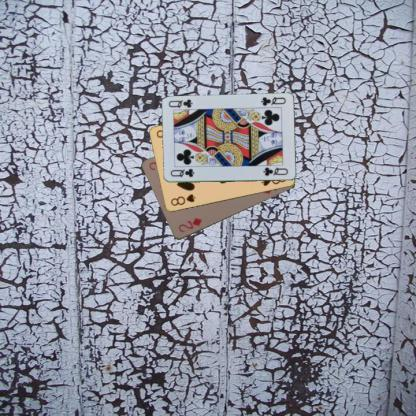2d: (176, 216, 203, 234)
8s: (168, 192, 197, 207)
Qc: (258, 94, 287, 107), (168, 166, 195, 178)
